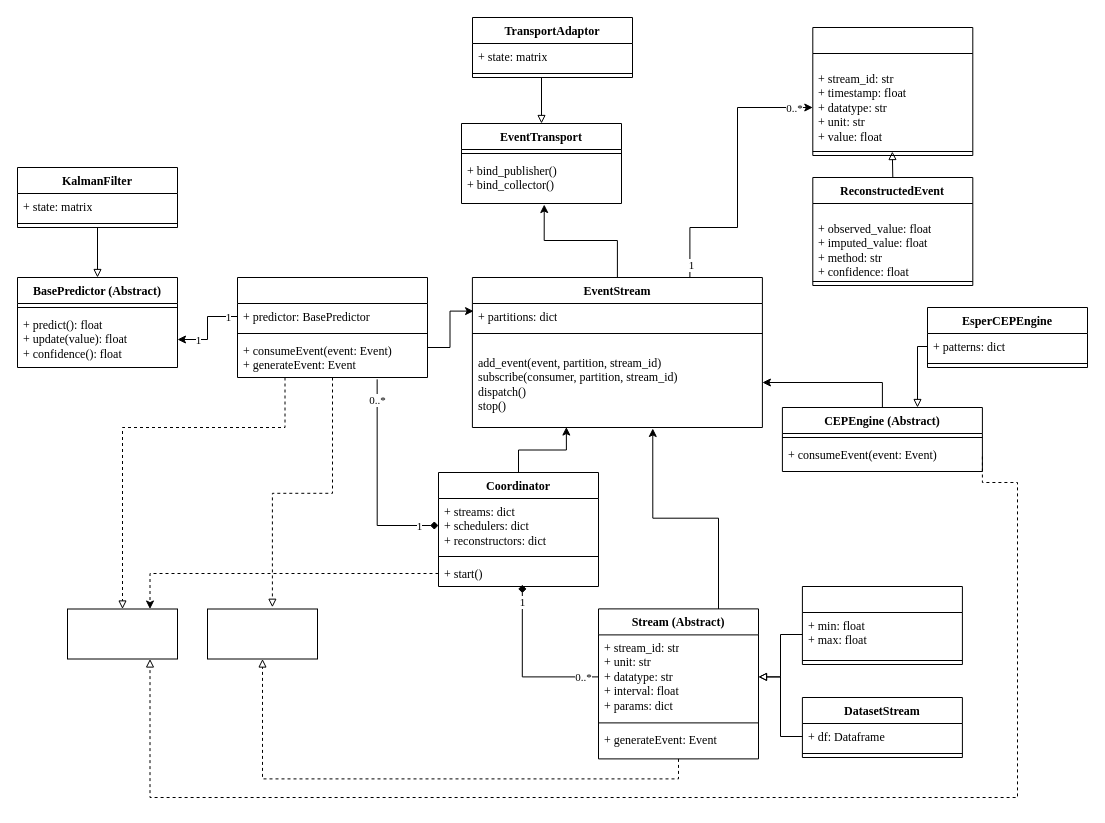
This 1105x823 diagram has some shape labels left out. The box of each missing label's shape, as (x1, y1, x2, y2) in pixels:
Event: (812, 26, 973, 156)
Reconstructor: (236, 276, 428, 378)
SimulatedStream: (801, 586, 962, 664)
«interface» EventConsumer: (66, 608, 178, 659)
«interface» EventGenerator: (206, 608, 318, 659)
